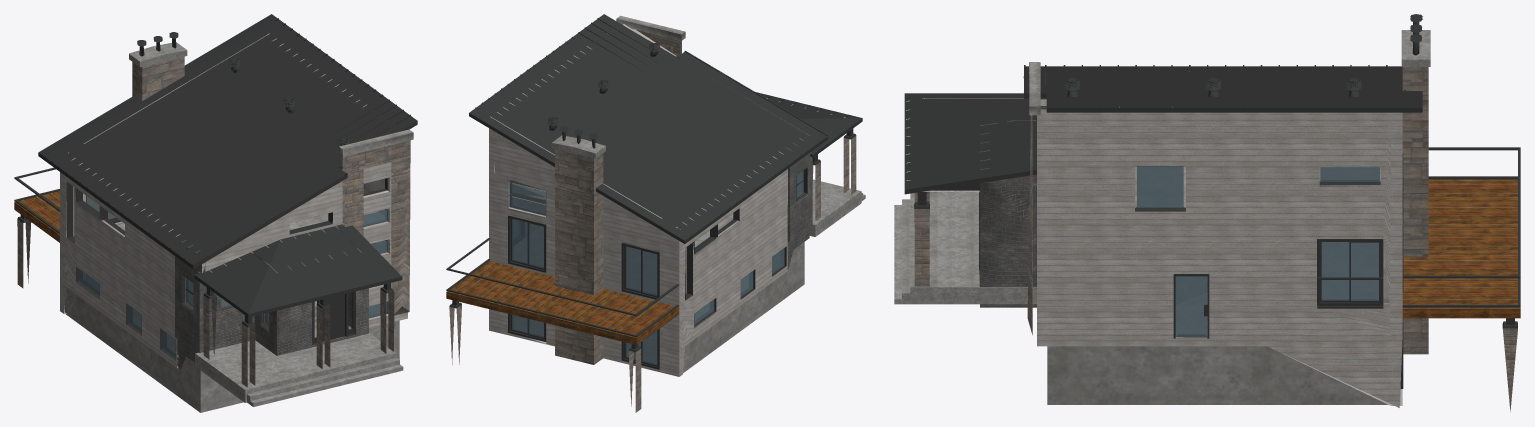
The model's file is house-real-3s2.glb.
3 renders of one model, left to right at view 1: azimuth 30°, elevation 25°; view 2: azimuth 150°, elevation 25°; view 3: azimuth 270°, elevation 25°, orthographic. The views are drawn at different scales.
Visible parts, largest first — view 1: Object_7, Object_6, Object_3, Object_2, Object_8, Object_5, Object_4; view 2: Object_7, Object_6, Object_2, Object_8, Object_3, Object_5, Object_4; view 3: Object_6, Object_7, Object_3, Object_8, Object_2, Object_4, Object_5.
Part boxes in pixels (<box>): Object_7: <box>38,14,417,317</box>; Object_6: <box>60,33,407,368</box>; Object_3: <box>65,42,413,412</box>; Object_2: <box>17,56,410,387</box>; Object_8: <box>14,169,368,368</box>; Object_5: <box>14,32,393,360</box>; Object_4: <box>78,196,388,357</box>; Object_7: <box>469,14,862,243</box>; Object_6: <box>489,24,845,376</box>; Object_2: <box>449,30,856,412</box>; Object_8: <box>446,82,812,344</box>; Object_3: <box>508,15,865,372</box>; Object_5: <box>446,42,856,369</box>; Object_4: <box>509,171,803,365</box>; Object_6: <box>906,71,1402,407</box>; Object_7: <box>904,65,1422,194</box>; Object_3: <box>894,30,1430,404</box>; Object_8: <box>979,73,1520,318</box>; Object_2: <box>914,67,1517,411</box>; Object_4: <box>1137,166,1379,337</box>; Object_5: <box>914,14,1520,388</box>.
Bounding box in the file's own units: 1045 × 1073 × 1886.
7 materials, 7 textured.
